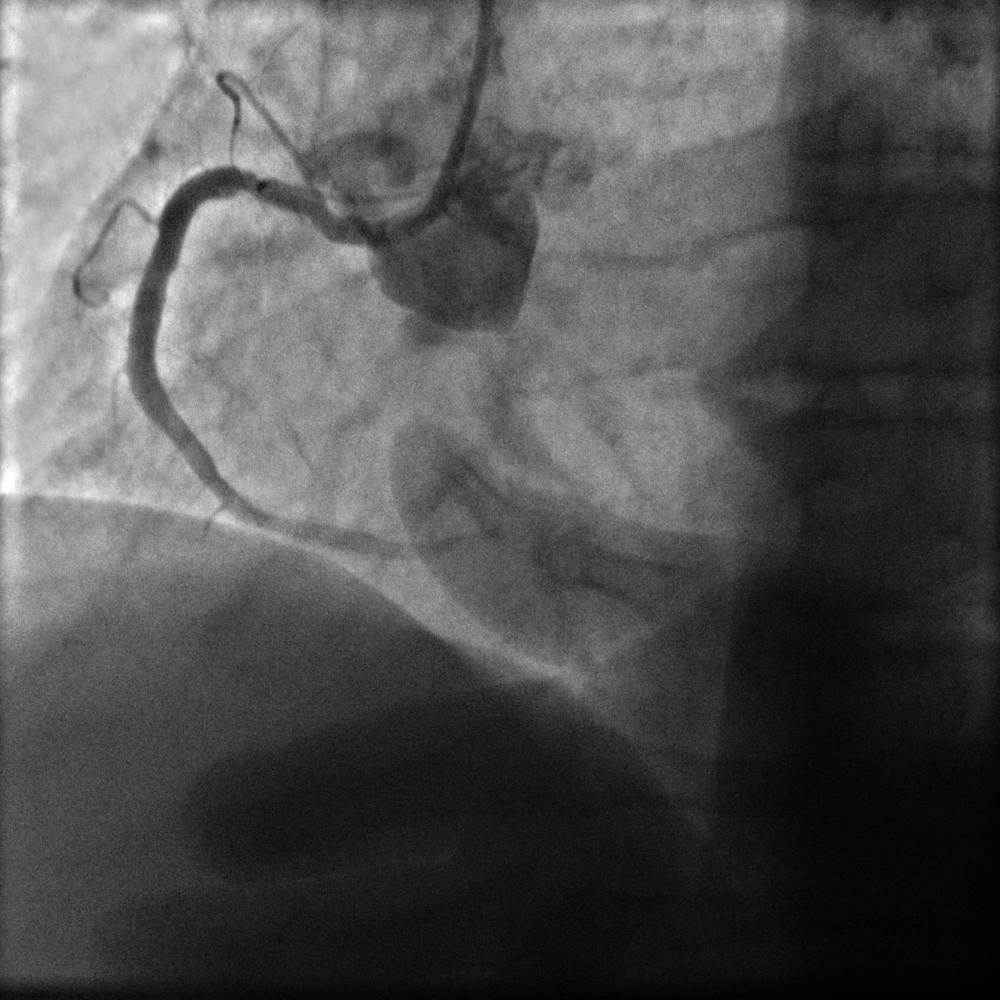Stenosis: (212, 158, 324, 237)
